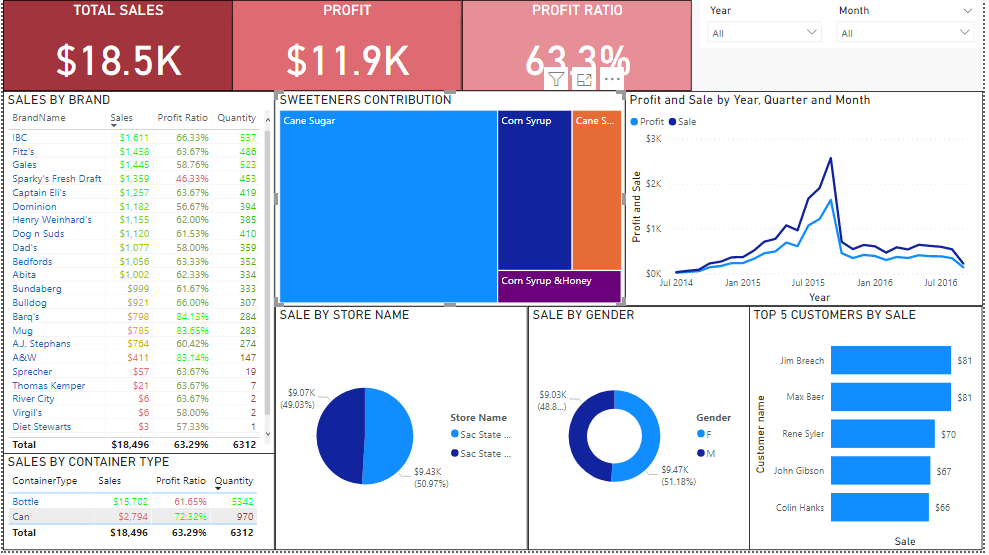

The dashboard page shown, as its layout file describes it:
{"tool":"powerbi","page":{"name":"Page 1","canvas":[1280,720],"ordinal":0},"visuals":[{"type":"slicer","fields":{"Values":["Merge1.TransactionDate.Variation.Date Hierarchy.Year"]},"box":[910.7,0,168.9,62.9],"z":0},{"type":"slicer","fields":{"Values":["Merge1.TransactionDate.Variation.Date Hierarchy.Month"]},"box":[1079.6,0,200.4,62.9],"z":1000},{"type":"card","title":"TOTAL SALES","fields":{"Values":["Merge1.PurchasePrice"]},"box":[0,0,299.7,119.2],"z":2000},{"type":"card","title":"PROFIT","fields":{"Values":["Merge1.Revenue"]},"box":[299.7,0,299.7,119.2],"z":3000},{"type":"card","title":"PROFIT RATIO","fields":{"Values":["Merge1.Profit Ratio"]},"box":[599.4,0,299.7,119.2],"z":4000},{"type":"tableEx","title":"SALES BY BRAND","fields":{"Values":["Merge1.RootBeerBrand.BrandName","Merge1.PurchasePrice","Merge1.Profit Ratio","Merge1.RootBeer.BrandID"]},"box":[0,118.5,355.4,473.9],"z":5000},{"type":"tableEx","title":"SALES BY CONTAINER TYPE","fields":{"Values":["Merge1.RootBeer.ContainerType","Merge1.PurchasePrice","Merge1.Profit Ratio","Merge1.RootBeer.BrandID"]},"box":[0,592.4,355.4,126.9],"z":6000},{"type":"clusteredBarChart","title":"TOP 5 CUSTOMERS BY SALE","fields":{"Category":["Merge1.Name"],"Y":["Merge1.PurchasePrice for new CustomerID"]},"box":[975.3,399.9,304.7,319.5],"z":7000},{"type":"lineChart","fields":{"Category":["Merge1.TransactionDate.Variation.Date Hierarchy.Year","Merge1.TransactionDate.Variation.Date Hierarchy.Quarter","Merge1.TransactionDate.Variation.Date Hierarchy.Month","Merge1.TransactionDate.Variation.Date Hierarchy.Day"],"Y":["Merge1.Revenue","Merge1.PurchasePrice"]},"box":[812.4,118.5,467.6,281.4],"z":8000},{"type":"pieChart","fields":{"Y":["Merge1.PurchasePrice"],"Category":["Merge1.Location.LocationName"]},"box":[355.4,399.9,330,319.5],"z":9000},{"type":"treemap","title":"SWEETENERS COUNT","fields":{"Group":["Merge1.RootBeerBrand (2).Sweetners"],"Values":["Merge1.RootBeerBrand (2).Sweetners"]},"box":[355.4,118.5,457,281.4],"z":10000},{"type":"donutChart","fields":{"Category":["Merge1.Customer.Gender"],"Y":["Merge1.PurchasePrice"]},"box":[685.5,399.9,289.9,319.5],"z":11000}]}

Visuals, with their boxes in screenshot pixels (x1, y1, x2, y2), scaled from the page's 1280x720 canvas onto the 989x555 screenshot:
slicer - Merge1.TransactionDate.Variation.Date Hierarchy.Year: box=[704, 0, 834, 48]
slicer - Merge1.TransactionDate.Variation.Date Hierarchy.Month: box=[834, 0, 988, 48]
"TOTAL SALES" card: box=[0, 0, 232, 92]
"PROFIT" card: box=[232, 0, 463, 92]
"PROFIT RATIO" card: box=[463, 0, 695, 92]
"SALES BY BRAND" tableEx: box=[0, 91, 275, 457]
"SALES BY CONTAINER TYPE" tableEx: box=[0, 457, 275, 554]
"TOP 5 CUSTOMERS BY SALE" clusteredBarChart: box=[754, 308, 988, 554]
lineChart - Merge1.TransactionDate.Variation.Date Hierarchy.Year x Merge1.TransactionDate.Variation.Date Hierarchy.Quarter: box=[628, 91, 988, 308]
pieChart - Merge1.PurchasePrice x Merge1.Location.LocationName: box=[275, 308, 530, 554]
"SWEETENERS COUNT" treemap: box=[275, 91, 628, 308]
donutChart - Merge1.Customer.Gender x Merge1.PurchasePrice: box=[530, 308, 754, 554]
